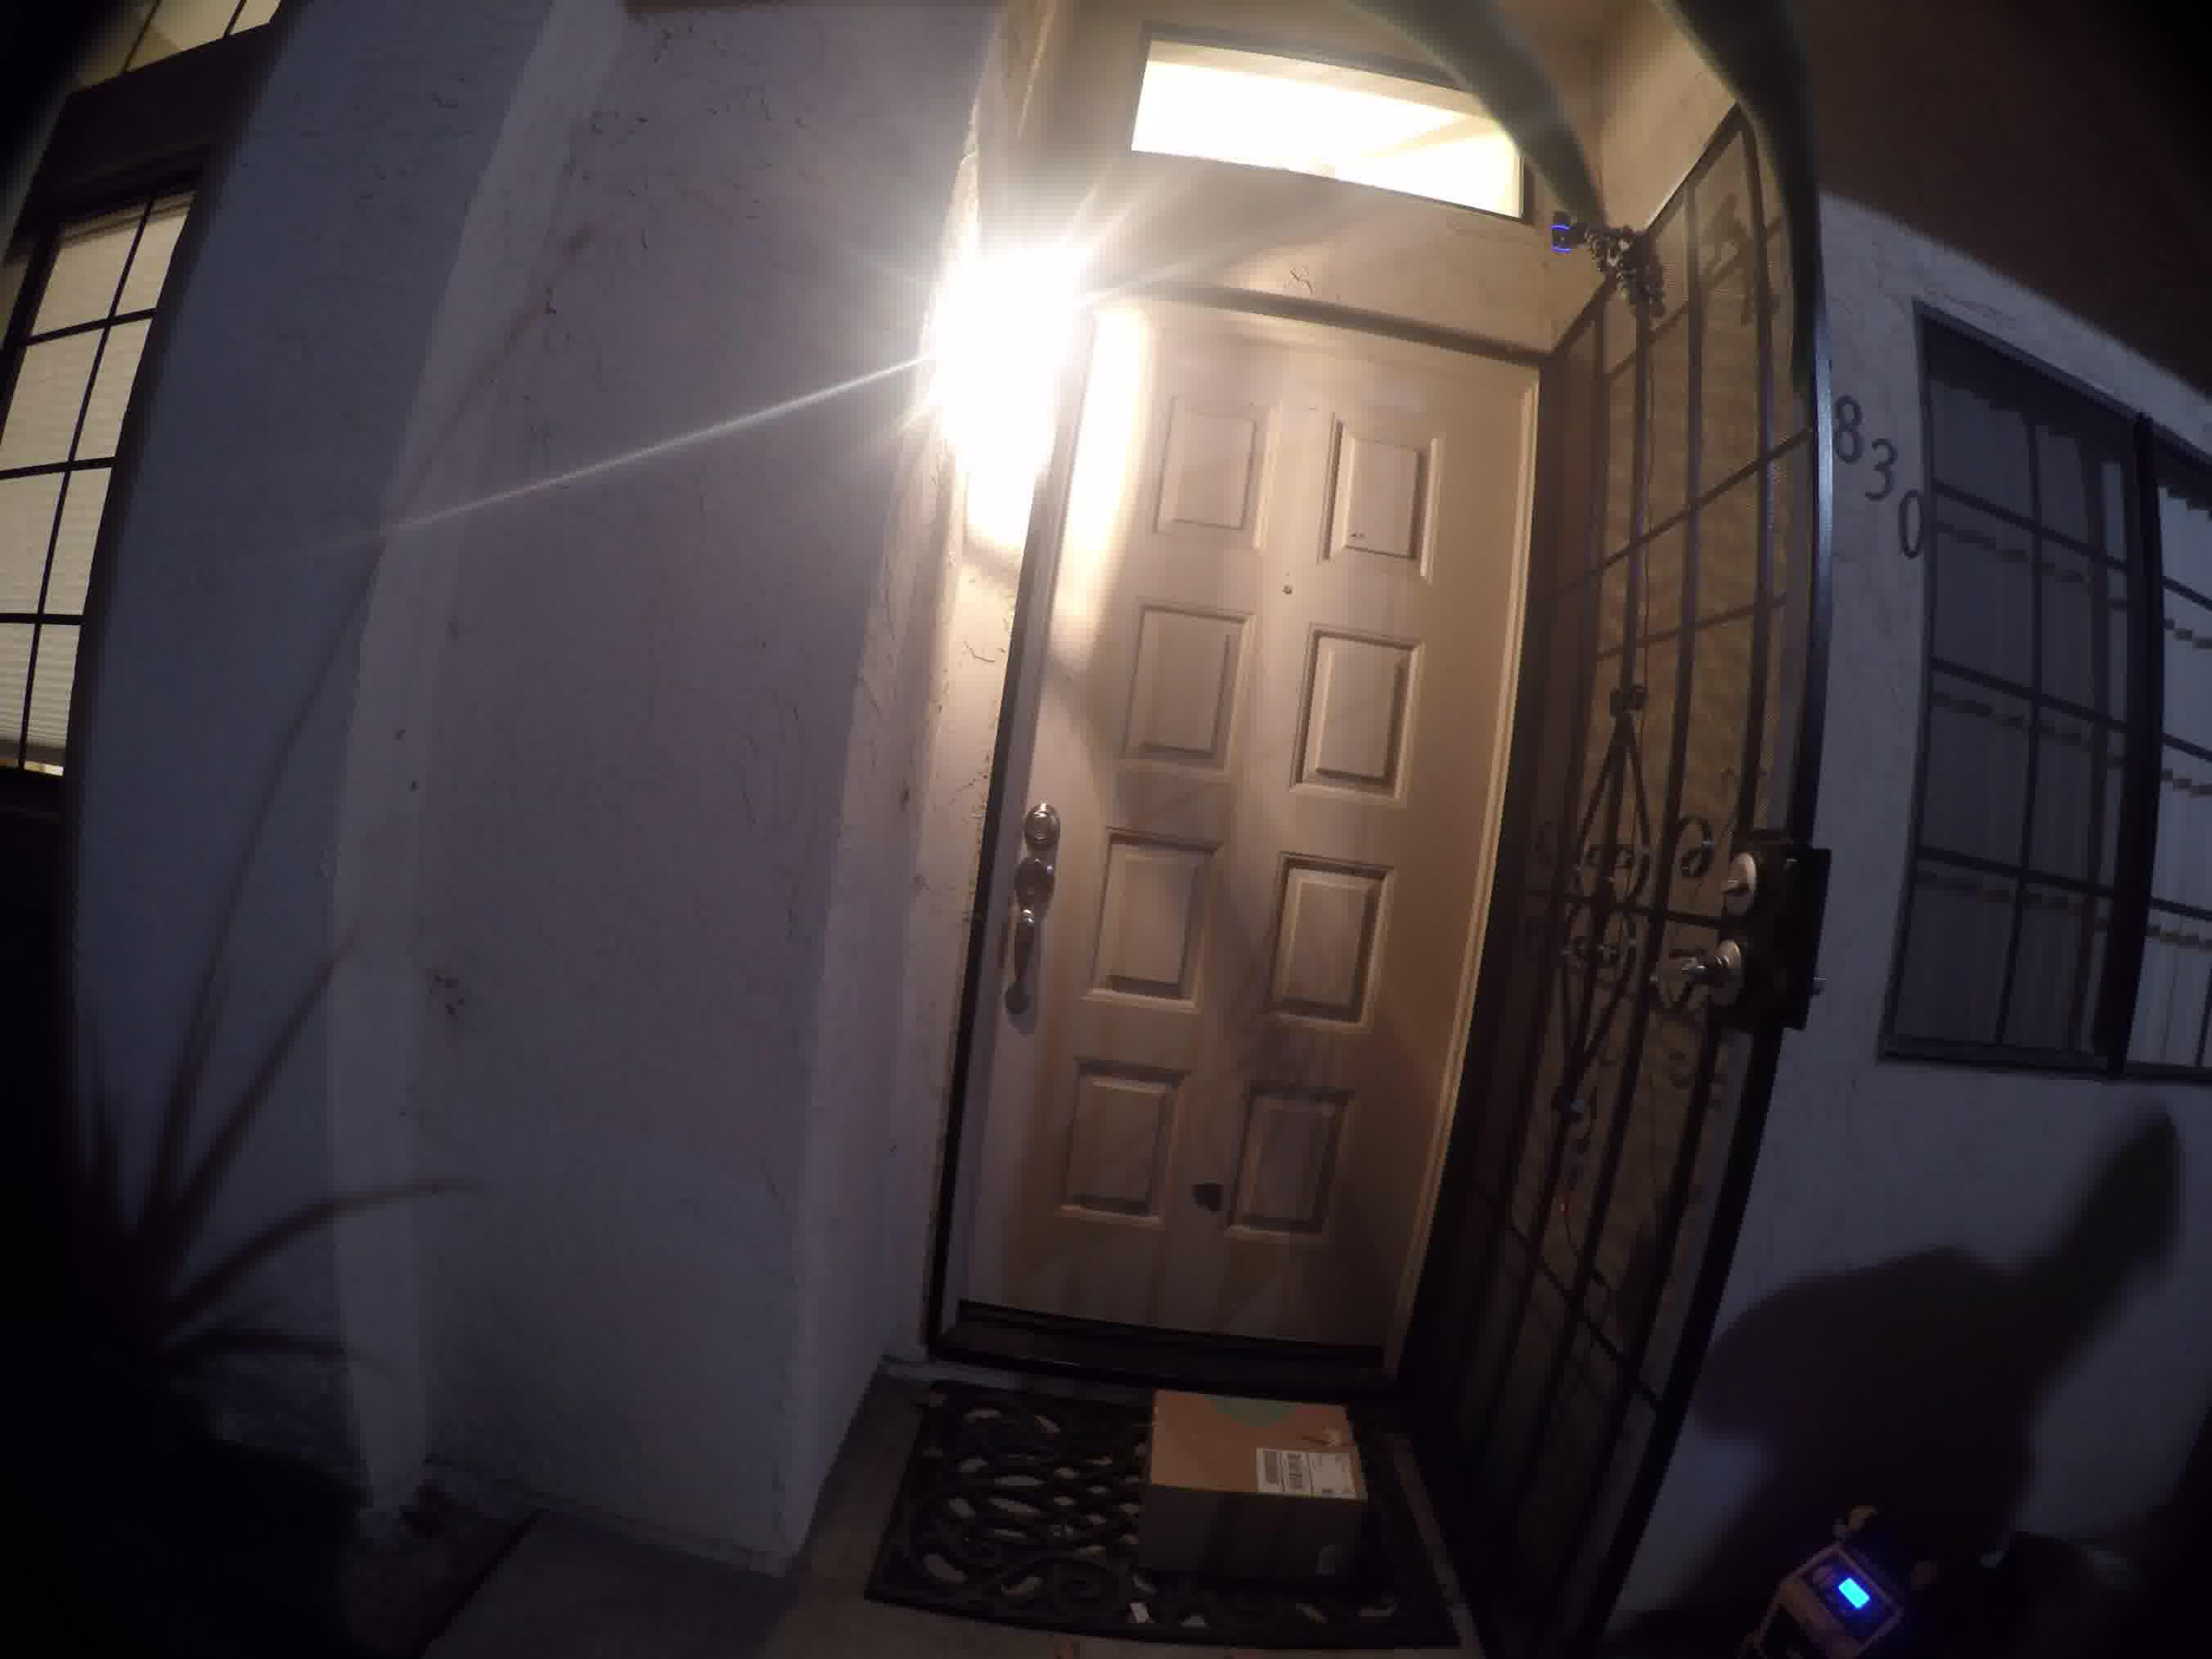box: (1137, 1380, 1378, 1607)
